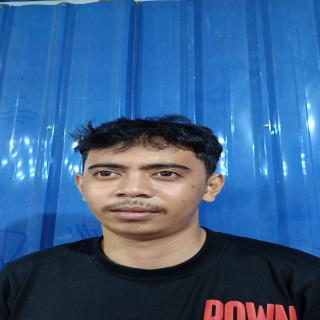Marah: (80, 139, 217, 240)
